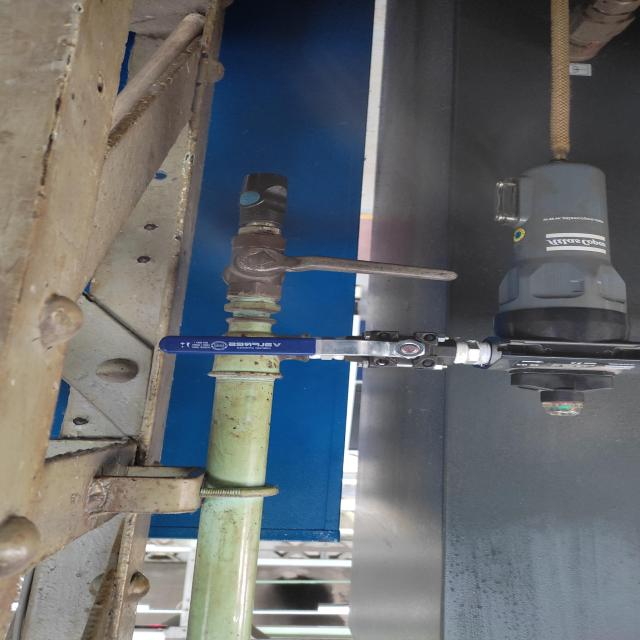closed_valve: (219, 230, 459, 300)
opened_valve: (154, 327, 458, 371)
